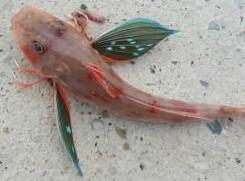fish: (10, 7, 244, 177)
